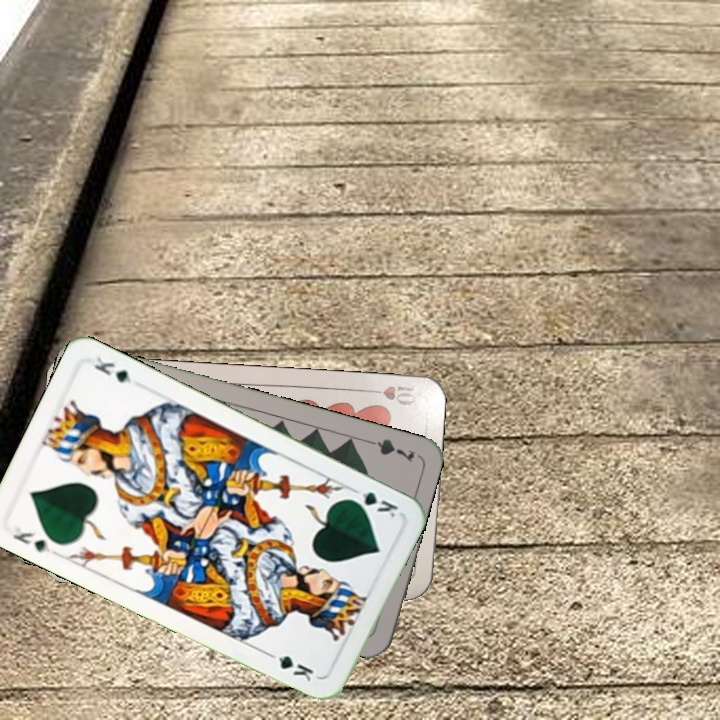G7: (360, 434, 417, 465)
GK: (344, 484, 401, 520), (8, 522, 53, 556)
H10: (361, 381, 420, 408)
